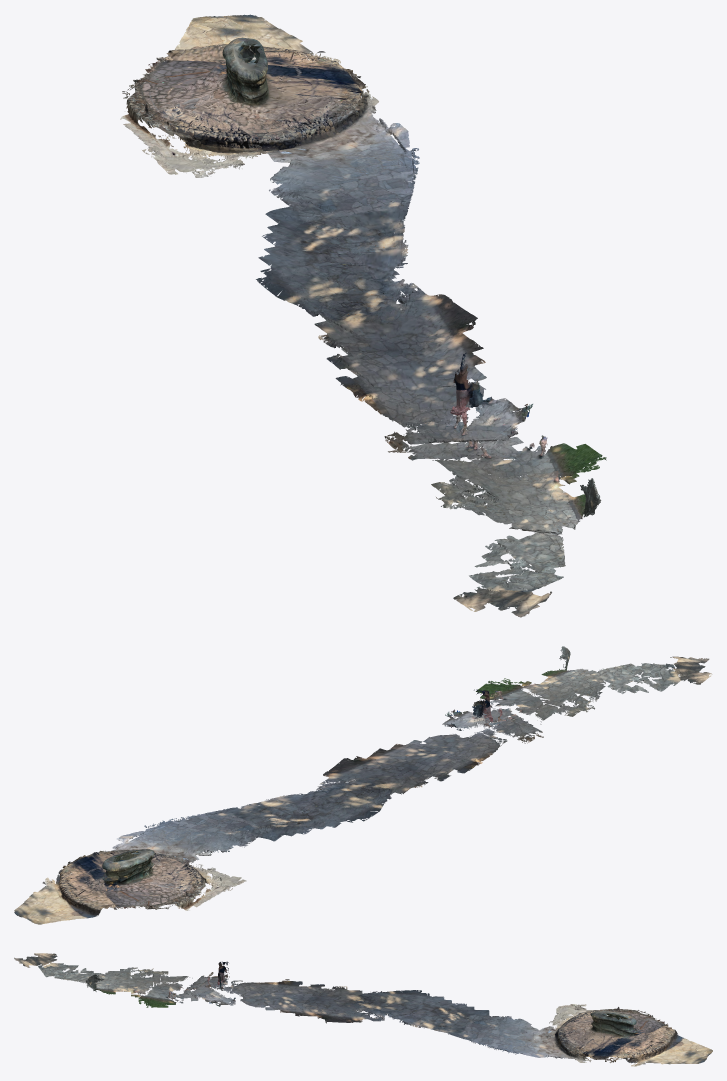
The model's file is ARLocationMesh_1.fbx.
3 renders of one model, top to bottom at view 1: azimuth 30°, elevation 25°; view 2: azimuth 150°, elevation 25°; view 3: azimuth 270°, elevation 25°, orthographic. The views are drawn at different scales.
Parts seen in each view (by area): view 1: mesh; view 2: mesh; view 3: mesh.
Boxes of the visible parts, x1,y1,x2,y2 form: mesh: [120, 14, 606, 617]; mesh: [14, 646, 712, 924]; mesh: [14, 953, 712, 1066].
Bounding box in the file's own units: 14.4 × 2.46 × 37.48.
Materials: 1 (1 with a texture image).
